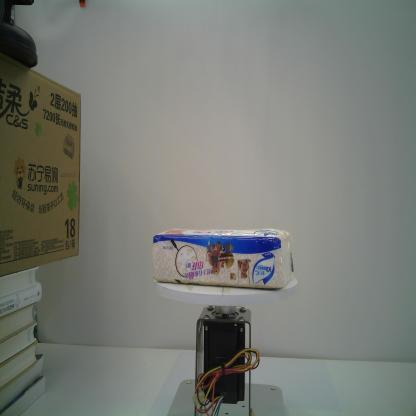Tissue: (147, 223, 298, 296)
